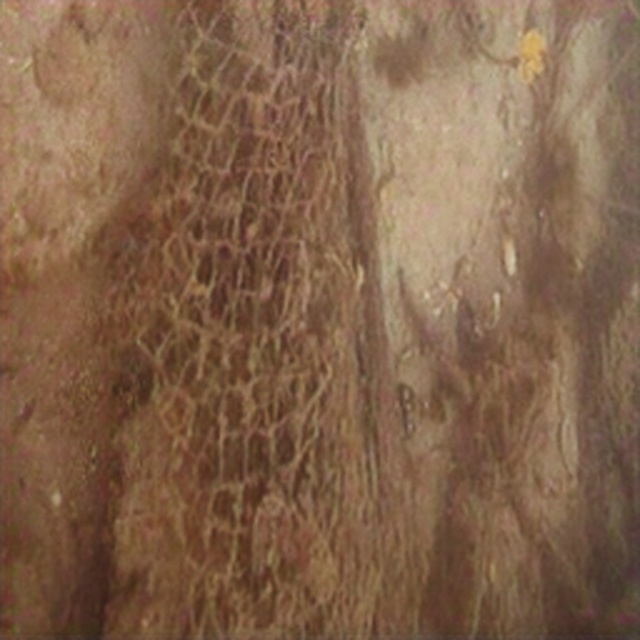mine: (138, 3, 408, 639)
